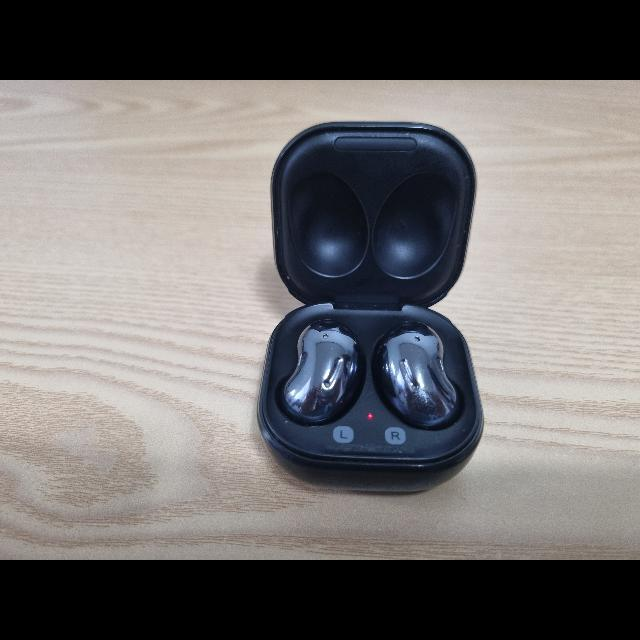buds_live: (256, 120, 486, 498)
